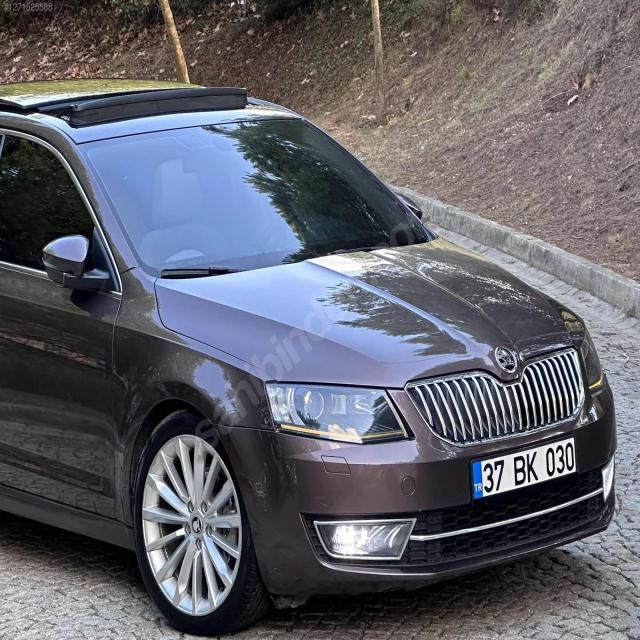skoda: (498, 342, 516, 372)
